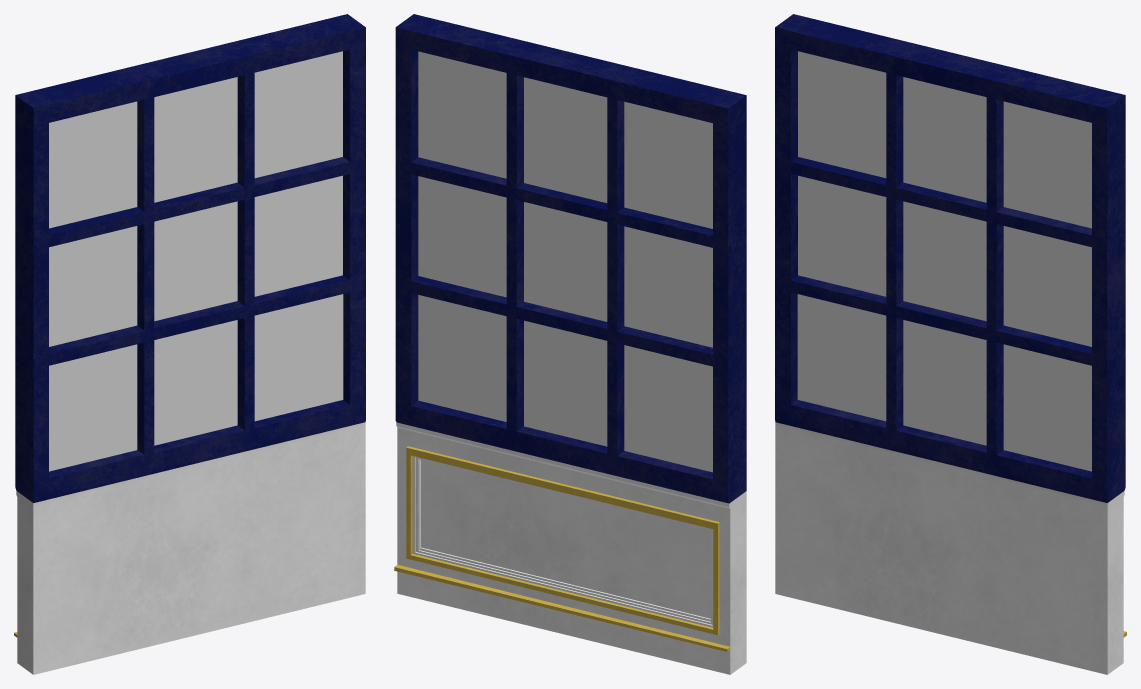
The model's file is window_dinroom_with_texture.fbx.
3 renders of one model, left to right at view 1: azimuth 30°, elevation 25°; view 2: azimuth 150°, elevation 25°; view 3: azimuth 330°, elevation 25°, orthographic.
Visible parts, largest first — view 1: window_bg_dinroom, window_glass_dinroom; view 2: window_bg_dinroom, window_glass_dinroom; view 3: window_bg_dinroom, window_glass_dinroom.
Boxes of the visible parts, left/top/right/bottom form: window_bg_dinroom: left=14, top=14, right=365, bottom=674; window_glass_dinroom: left=49, top=51, right=343, bottom=471; window_bg_dinroom: left=394, top=14, right=746, bottom=674; window_glass_dinroom: left=418, top=51, right=712, bottom=472; window_bg_dinroom: left=775, top=14, right=1126, bottom=674; window_glass_dinroom: left=797, top=51, right=1091, bottom=471.
Size of the model in its own units: 105 by 170 by 10.63.
